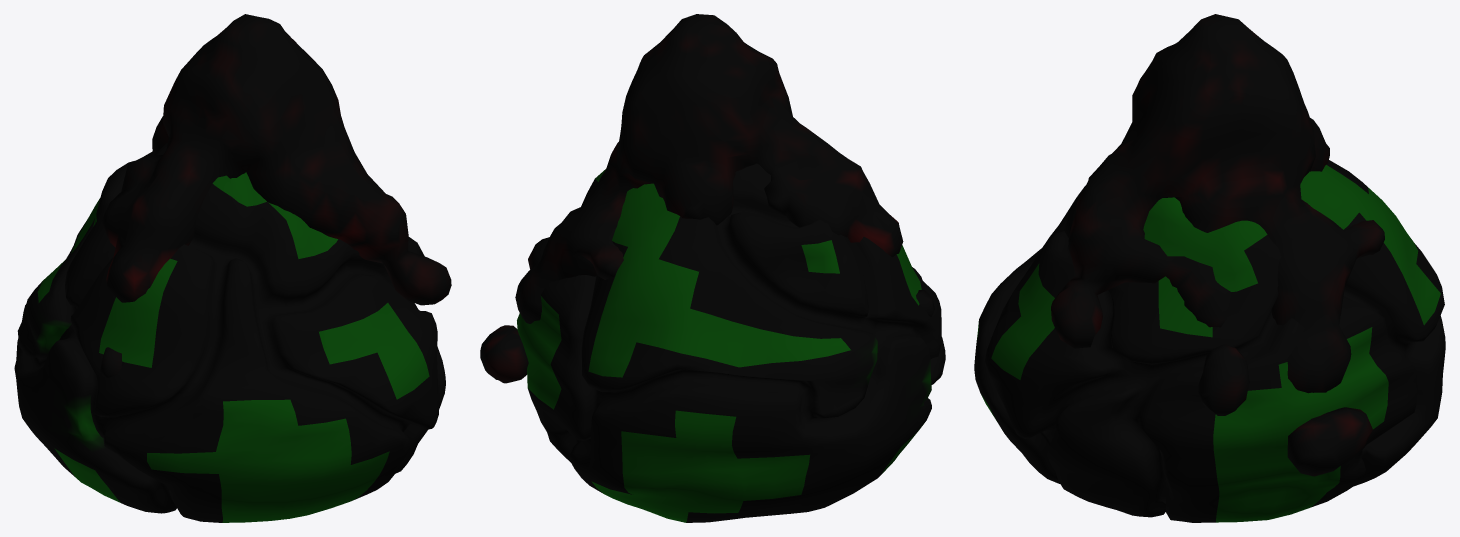
The model's file is LavaPlant.fbx.
3 renders of one model, left to right at view 1: azimuth 30°, elevation 25°; view 2: azimuth 150°, elevation 25°; view 3: azimuth 270°, elevation 25°, orthographic. The views are drawn at different scales.
Visible parts, largest first — view 1: Base, Lava1; view 2: Base, Lava1; view 3: Base, Lava1.
Part boxes in pixels (left/top/right/bottom): Base: left=14, top=143, right=445, bottom=522; Lava1: left=99, top=14, right=451, bottom=377; Base: left=517, top=163, right=945, bottom=522; Lava1: left=480, top=14, right=934, bottom=383; Base: left=974, top=160, right=1445, bottom=522; Lava1: left=1051, top=14, right=1384, bottom=476.
Size of the model in its own units: 20.81 by 24.18 by 21.5.
